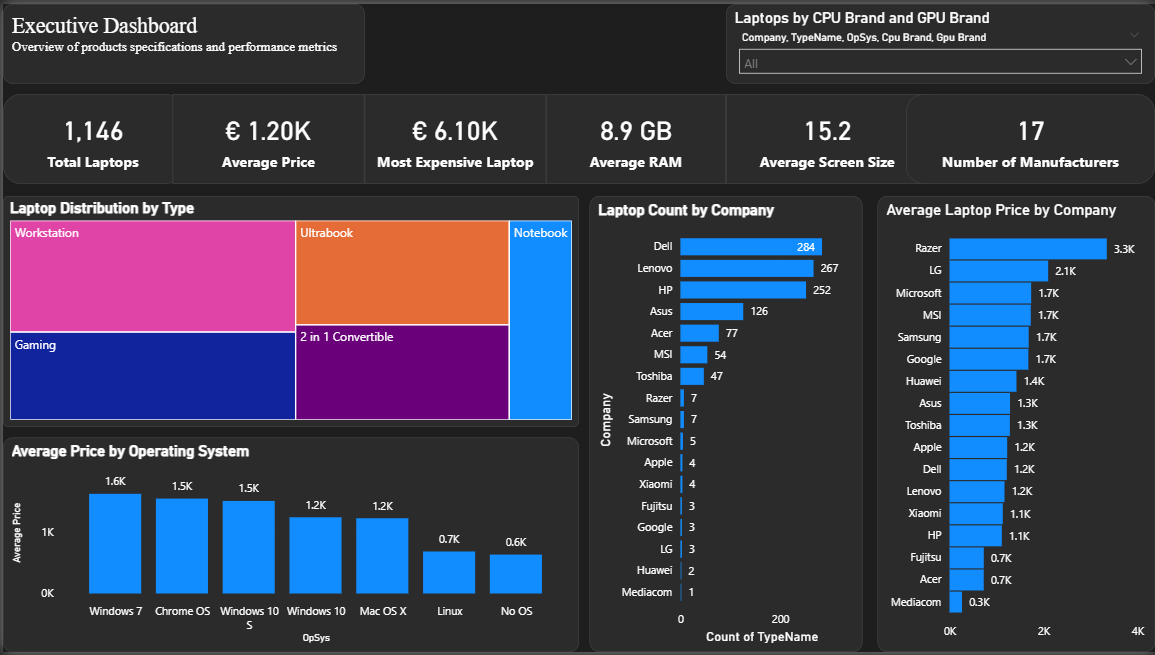

This screenshot's page, from the dashboard's own definition file:
{"tool":"powerbi","page":{"name":"Executive Overview","canvas":[1280,720],"ordinal":0},"visuals":[{"type":"card","fields":{"Values":["CountNonNull(Table1.Company)"]},"box":[0,100,200,100],"z":0},{"type":"card","fields":{"Values":["Avg(Table1.Price_euros)"]},"box":[188.3,100,213.3,100],"z":1000},{"type":"card","fields":{"Values":["Max(Table1.Price_euros)"]},"box":[401.7,100,201.7,100],"z":2000},{"type":"card","fields":{"Values":["Table1.Average RAM"]},"box":[603.3,100,200,100],"z":3000},{"type":"card","fields":{"Values":["Avg(Table1.Inches)"]},"box":[803.3,100,225,100],"z":4000},{"type":"card","fields":{"Values":["Count(Table1.Company)"]},"box":[1003.3,100,276.7,100],"z":5000},{"type":"clusteredBarChart","title":"Average Laptop Price by Company","fields":{"Category":["Table1.Company"],"Y":["Avg(Table1.Price_euros)"]},"box":[971.7,213.3,308.3,506.7],"z":6000},{"type":"treemap","title":"Laptop Distribution by Type","fields":{"Group":["Table1.TypeName"],"Values":["Table1.Average Price"]},"box":[0,213.3,640,256.7],"z":7000},{"type":"clusteredColumnChart","title":"Average Price by Operating System","fields":{"Y":["Table1.Average Price"],"Category":["Table1.OpSys"]},"box":[0,481.7,640,238.3],"z":8000},{"type":"clusteredBarChart","title":"Laptop Count by Company","fields":{"Category":["Table1.Company"],"Y":["CountNonNull(Table1.TypeName)"]},"box":[651.7,213.3,303.3,506.7],"z":9000},{"type":"slicer","title":"Laptops by CPU Brand and GPU Brand","fields":{"Values":["Table1.Company","Table1.TypeName","Table1.OpSys","Table1.Cpu Brand","Table1.Gpu Brand"]},"box":[803.3,0,476.7,88.3],"z":10000},{"type":"textbox","box":[0,0,401.7,88.3],"z":11000}]}

Visuals, with their boxes in screenshot pixels (x1, y1, x2, y2), scaled from the page's 1280x720 canvas onto the 1155x655 screenshot:
card - CountNonNull(Table1.Company): bbox=(0, 91, 180, 182)
card - Avg(Table1.Price_euros): bbox=(170, 91, 362, 182)
card - Max(Table1.Price_euros): bbox=(362, 91, 544, 182)
card - Table1.Average RAM: bbox=(544, 91, 725, 182)
card - Avg(Table1.Inches): bbox=(725, 91, 928, 182)
card - Count(Table1.Company): bbox=(905, 91, 1154, 182)
"Average Laptop Price by Company" clusteredBarChart: bbox=(877, 194, 1154, 654)
"Laptop Distribution by Type" treemap: bbox=(0, 194, 578, 428)
"Average Price by Operating System" clusteredColumnChart: bbox=(0, 438, 578, 654)
"Laptop Count by Company" clusteredBarChart: bbox=(588, 194, 862, 654)
"Laptops by CPU Brand and GPU Brand" slicer: bbox=(725, 0, 1154, 80)
textbox: bbox=(0, 0, 362, 80)
